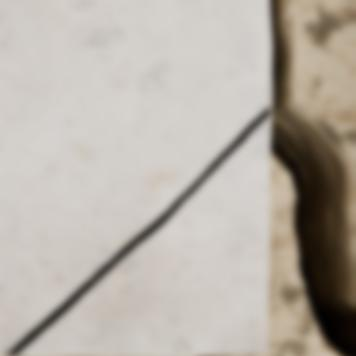brick: (0, 0, 270, 354), (18, 118, 268, 355)
crack: (1, 0, 355, 355)
